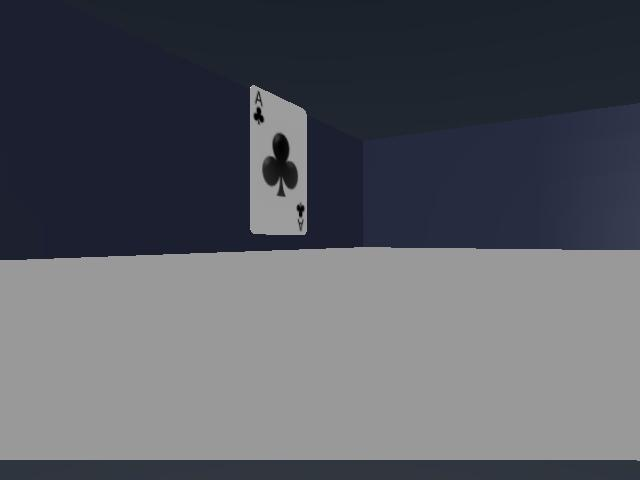club: (250, 86, 306, 234)
